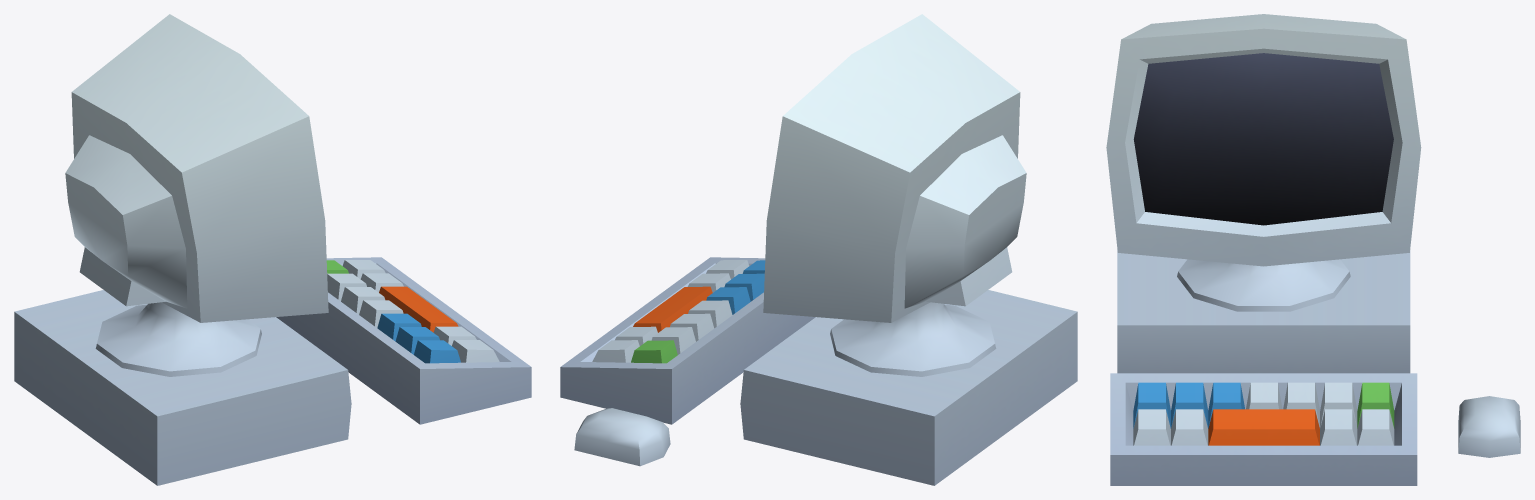
File: Computer.fbx
The picture shows the model from 3 angles, left to right: view 1: azimuth 30°, elevation 25°; view 2: azimuth 150°, elevation 25°; view 3: azimuth 270°, elevation 25°; orthographic projection. The views are drawn at different scales.
Visible parts, largest first — view 1: Computer; view 2: Computer; view 3: Computer.
Part boxes in pixels (<box>): Computer: <box>14,14,531,485</box>; Computer: <box>560,14,1077,485</box>; Computer: <box>1106,14,1520,485</box>.
Bounding box in the file's own units: 92.25 × 81.25 × 87.22.
